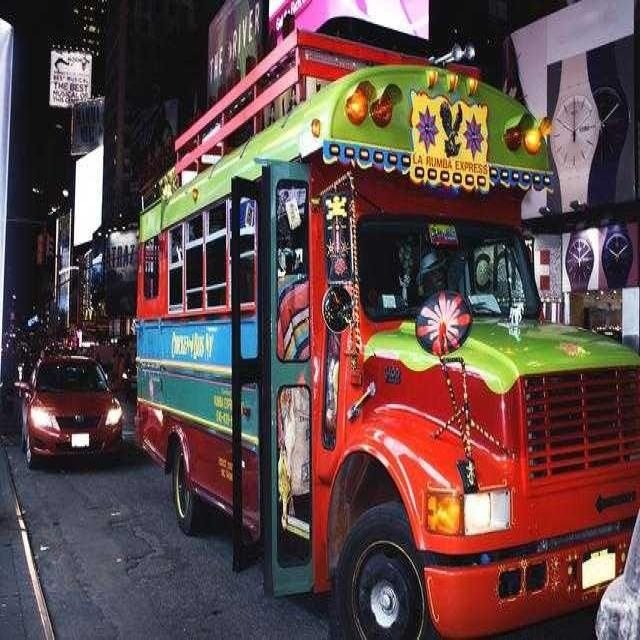Bus: (126, 12, 640, 640)
